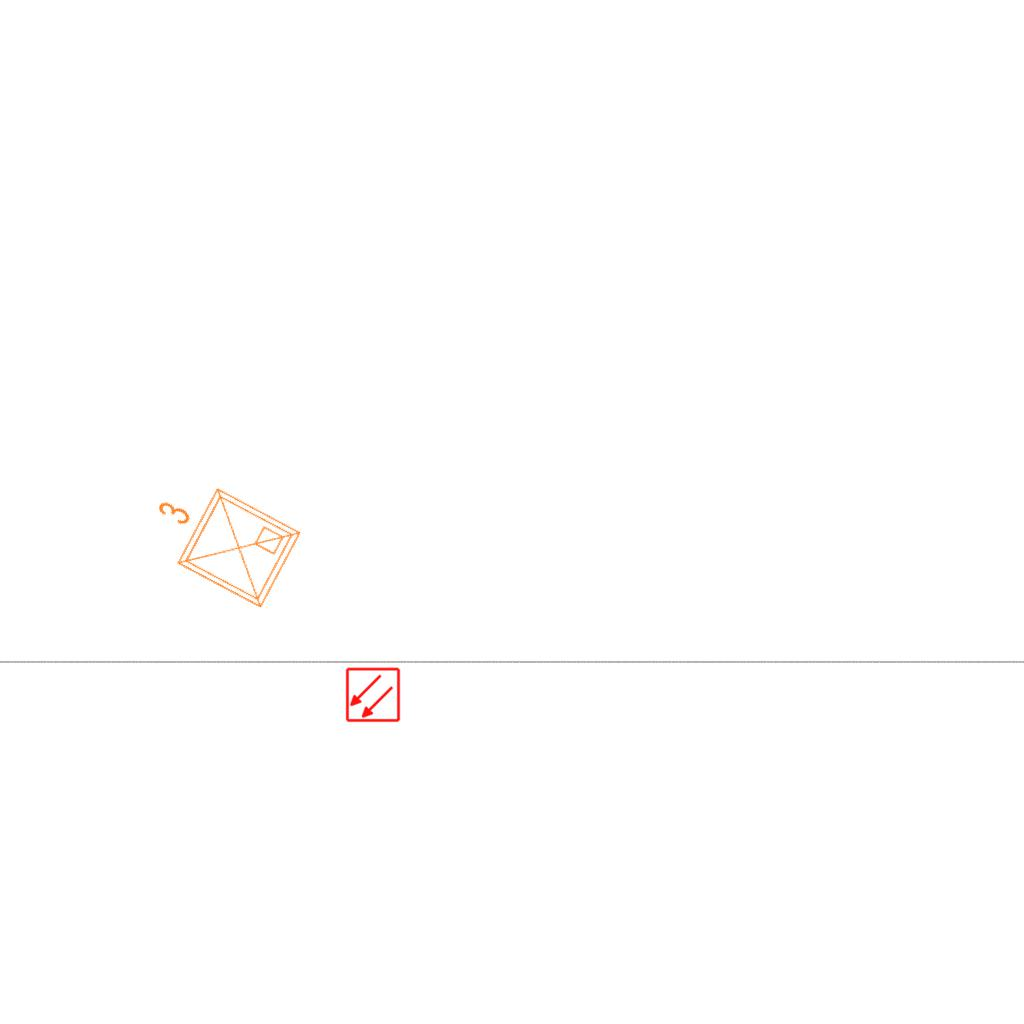Einbaudownlights_LED_Konferenzraeume: (129, 458, 311, 622)
RMO_Rauchmelder_optischer: (345, 667, 401, 723)
